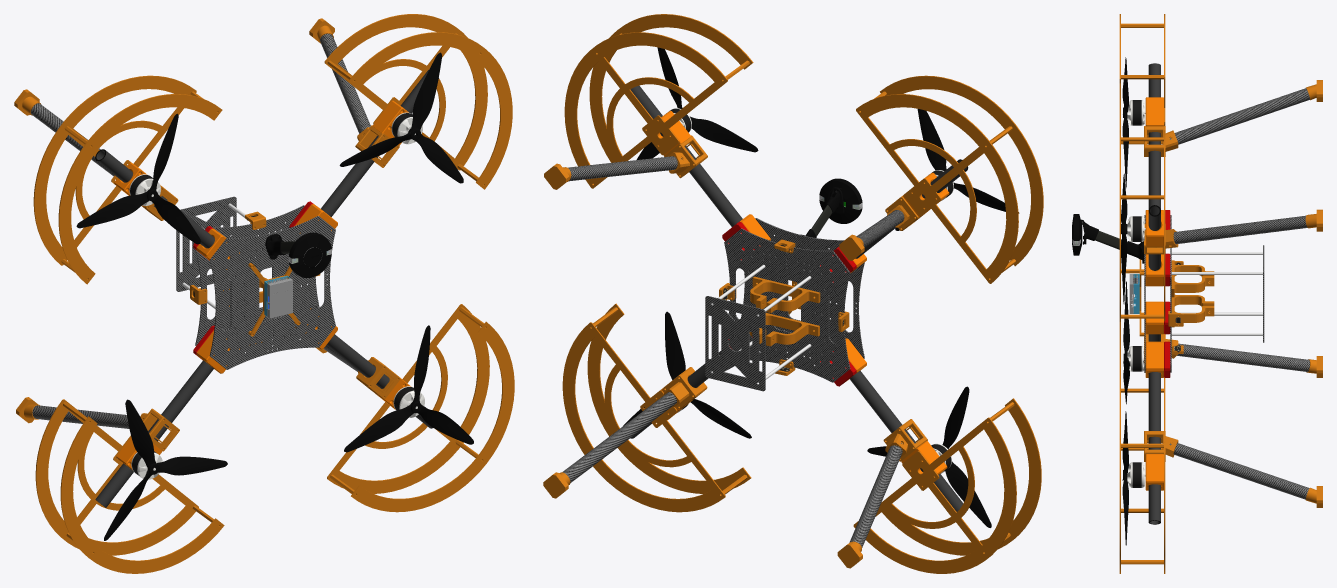
The model's file is drone.glb.
The picture shows the model from 3 angles, left to right: view 1: azimuth 30°, elevation 25°; view 2: azimuth 150°, elevation 25°; view 3: azimuth 270°, elevation 25°; orthographic projection. The views are drawn at different scales.
Parts seen in each view (by area): view 1: Solid1 (×20), Solid2 (×4), Solid3; view 2: Solid1 (×22), Solid2 (×2), MeshFeature1 (×2), Solid3; view 3: Solid1 (×12), Solid2 (×5), MeshFeature1 (×2), Solid3.
Part boxes in pixels (bbox=[...]): Solid1 (×20): bbox=[31, 14, 514, 573]; Solid2 (×4): bbox=[95, 70, 438, 507]; Solid3: bbox=[289, 232, 331, 277]; Solid1 (×22): bbox=[562, 14, 1043, 573]; Solid2 (×2): bbox=[630, 85, 967, 511]; MeshFeature1 (×2): bbox=[749, 276, 820, 346]; Solid3: bbox=[819, 178, 862, 223]; Solid1 (×12): bbox=[1119, 57, 1309, 545]; Solid2 (×5): bbox=[1145, 63, 1160, 524]; MeshFeature1 (×2): bbox=[1171, 260, 1214, 327]; Solid3: bbox=[1072, 214, 1082, 255].
Bounding box in the file's own units: 0.7611 × 0.7613 × 0.4061.
36 materials, 1 textured.
